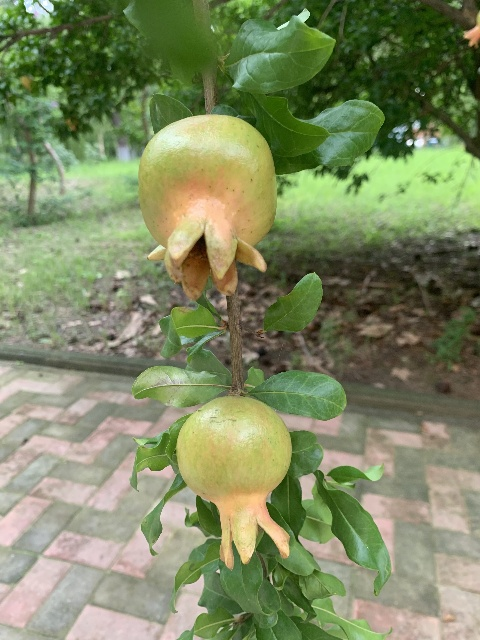mid-growth: (137, 112, 277, 301), (176, 395, 292, 570)
